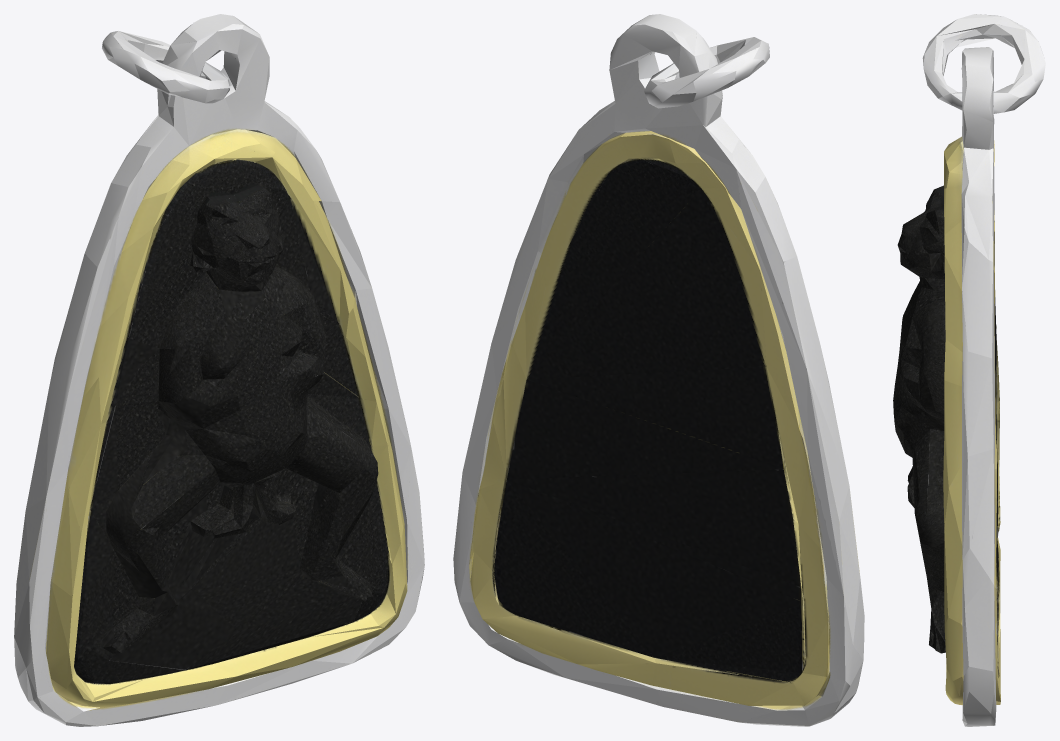
File: remeshed-praicase.glb
3 renders of one model, left to right at view 1: azimuth 30°, elevation 25°; view 2: azimuth 150°, elevation 25°; view 3: azimuth 270°, elevation 25°, orthographic. The views are drawn at different scales.
Visible parts, largest first — view 1: output_unwrapped; view 2: output_unwrapped; view 3: output_unwrapped.
Part boxes in pixels (bbox=[...]): output_unwrapped: bbox=[14, 14, 424, 726]; output_unwrapped: bbox=[453, 14, 864, 726]; output_unwrapped: bbox=[893, 14, 1045, 726].
Size of the model in its own units: 1.17 by 1.89 by 0.4243.
Materials: 1 (1 with a texture image).
